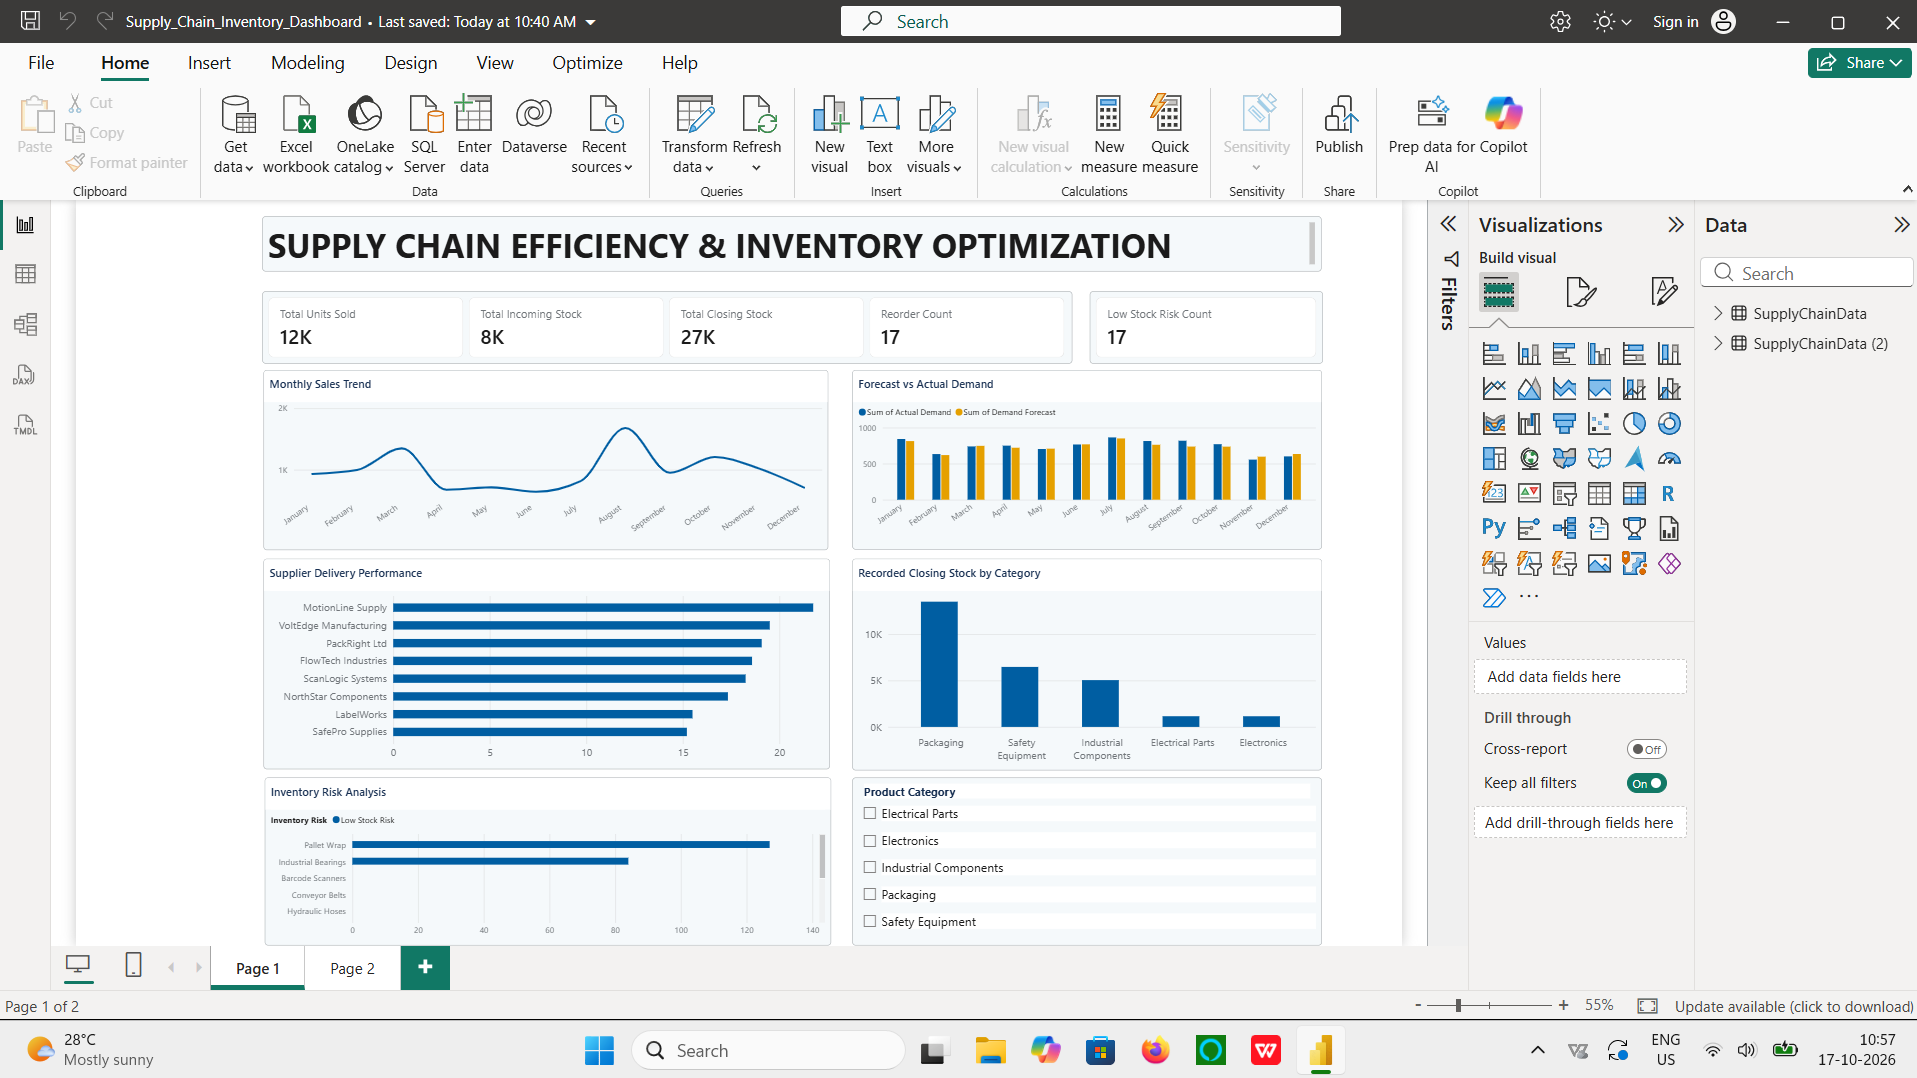

The dashboard page shown, as its layout file describes it:
{"tool":"powerbi","page":{"name":"Page 1","canvas":[1920,1080],"ordinal":0},"visuals":[{"type":"cardVisual","fields":{"Data":["SupplyChainData.Total Units Sold","SupplyChainData.Total Incoming Stock","SupplyChainData.Total Closing Stock","SupplyChainData.Reorder Count"]},"box":[270,132.5,1172.5,105],"z":0},{"type":"lineChart","title":"Monthly Sales Trend","fields":{"Category":["SupplyChainData.Month"],"Y":["Sum(SupplyChainData.Units Sold)"]},"box":[272.2,245.6,817.8,261.1],"z":1000},{"type":"textbox","box":[270,23.3,1533.3,80],"z":2000},{"type":"clusteredColumnChart","title":"Recorded Closing Stock by Category","fields":{"Category":["SupplyChainData.Product Category"],"Y":["Sum(SupplyChainData.Closing Stock)"]},"box":[1123.3,518.9,680,306.7],"z":3000},{"type":"clusteredBarChart","title":"Supplier Delivery Performance","fields":{"Category":["SupplyChainData.Supplier Name"],"Y":["Avg(SupplyChainData.Delivery Time (Days))"]},"box":[272.2,518.9,820,305],"z":4000},{"type":"clusteredColumnChart","title":"Forecast vs Actual Demand","fields":{"Category":["SupplyChainData.Month"],"Y":["Sum(SupplyChainData.Actual Demand)","Sum(SupplyChainData.Demand Forecast)"]},"box":[1123.3,246.7,680,260],"z":5000},{"type":"clusteredBarChart","title":"Inventory Risk Analysis","fields":{"Category":["SupplyChainData.Product Name"],"Series":["SupplyChainData.Inventory Risk"],"Y":["Sum(SupplyChainData.Closing Stock)"]},"box":[273.3,836.7,820,243.3],"z":6000},{"type":"cardVisual","fields":{"Data":["SupplyChainData.Low Stock Risk Count"]},"box":[1467.5,132.5,337.5,105],"z":6001},{"type":"slicer","fields":{"Values":["SupplyChainData.Product Category"]},"box":[1123.3,836.7,680,243.3],"z":6002}]}

Visuals, with their boxes on the page's 1920x1080 design canvas (x1, y1, x2, y2). These are canvas units, not pixel positions in the 1917x1078 screenshot, which may show the page scaled, cropped or inside an application window:
cardVisual - SupplyChainData.Total Units Sold x SupplyChainData.Total Incoming Stock: region(270, 132, 1442, 238)
"Monthly Sales Trend" lineChart: region(272, 246, 1090, 507)
textbox: region(270, 23, 1803, 103)
"Recorded Closing Stock by Category" clusteredColumnChart: region(1123, 519, 1803, 826)
"Supplier Delivery Performance" clusteredBarChart: region(272, 519, 1092, 824)
"Forecast vs Actual Demand" clusteredColumnChart: region(1123, 247, 1803, 507)
"Inventory Risk Analysis" clusteredBarChart: region(273, 837, 1093, 1080)
cardVisual - SupplyChainData.Low Stock Risk Count: region(1468, 132, 1805, 238)
slicer - SupplyChainData.Product Category: region(1123, 837, 1803, 1080)
